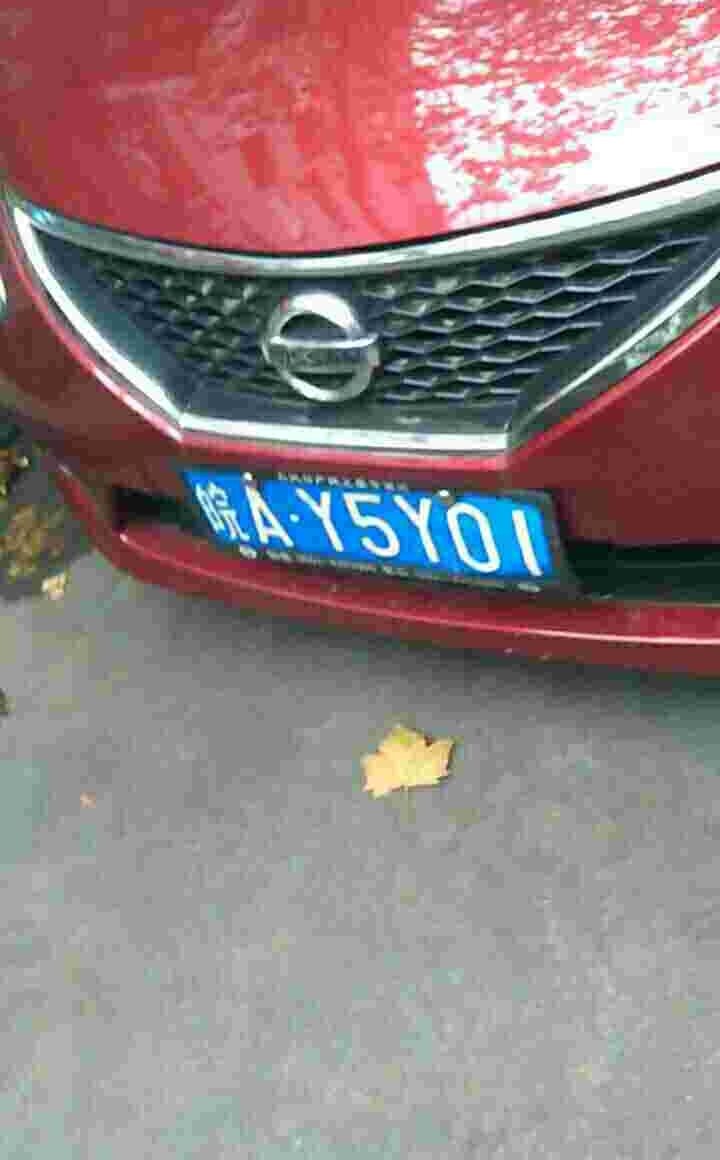license_plate: (198, 461, 566, 588)
